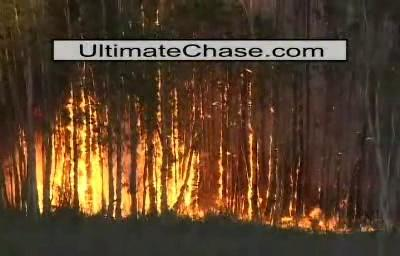fire: (8, 102, 373, 233)
